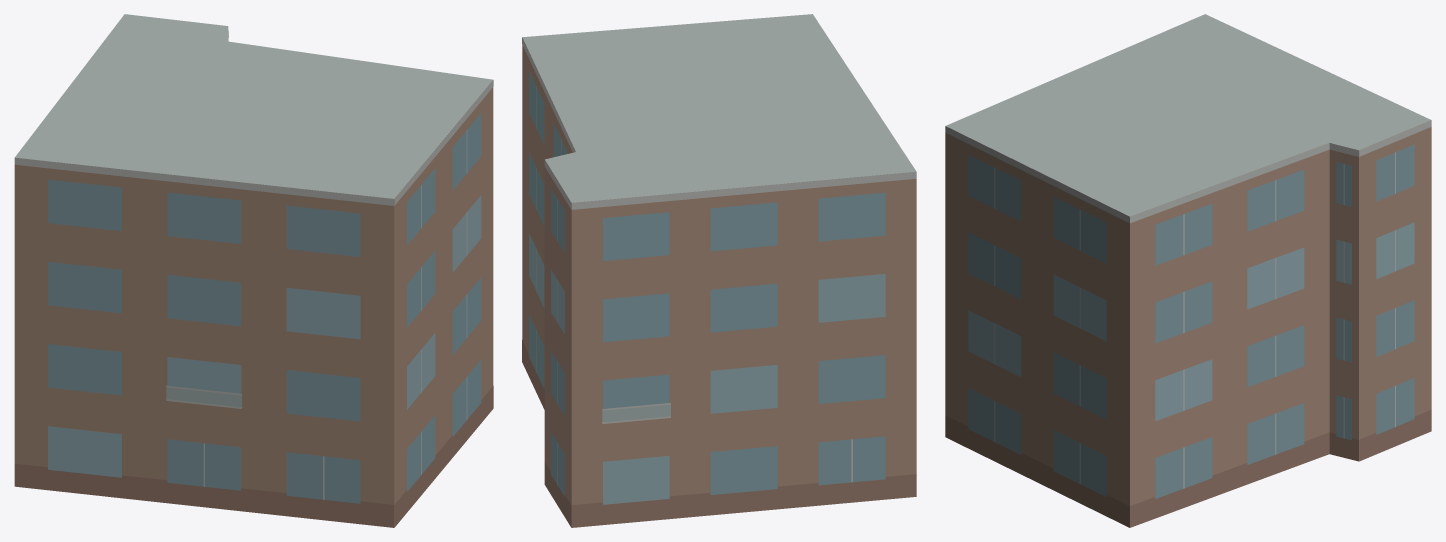
File: survey-upis-32849967.glb
The picture shows the model from 3 angles, left to right: view 1: azimuth 30°, elevation 25°; view 2: azimuth 150°, elevation 25°; view 3: azimuth 270°, elevation 25°; orthographic projection. The views are drawn at different scales.
Visible parts, largest first — view 1: survey-upis-32849967.tmp; view 2: survey-upis-32849967.tmp; view 3: survey-upis-32849967.tmp.
Boxes of the visible parts, x1,y1,x2,y2 form: survey-upis-32849967.tmp: (14, 14, 493, 527); survey-upis-32849967.tmp: (522, 14, 916, 527); survey-upis-32849967.tmp: (945, 14, 1431, 527).
Size of the model in its own units: 15.93 by 11.4 by 16.15.
